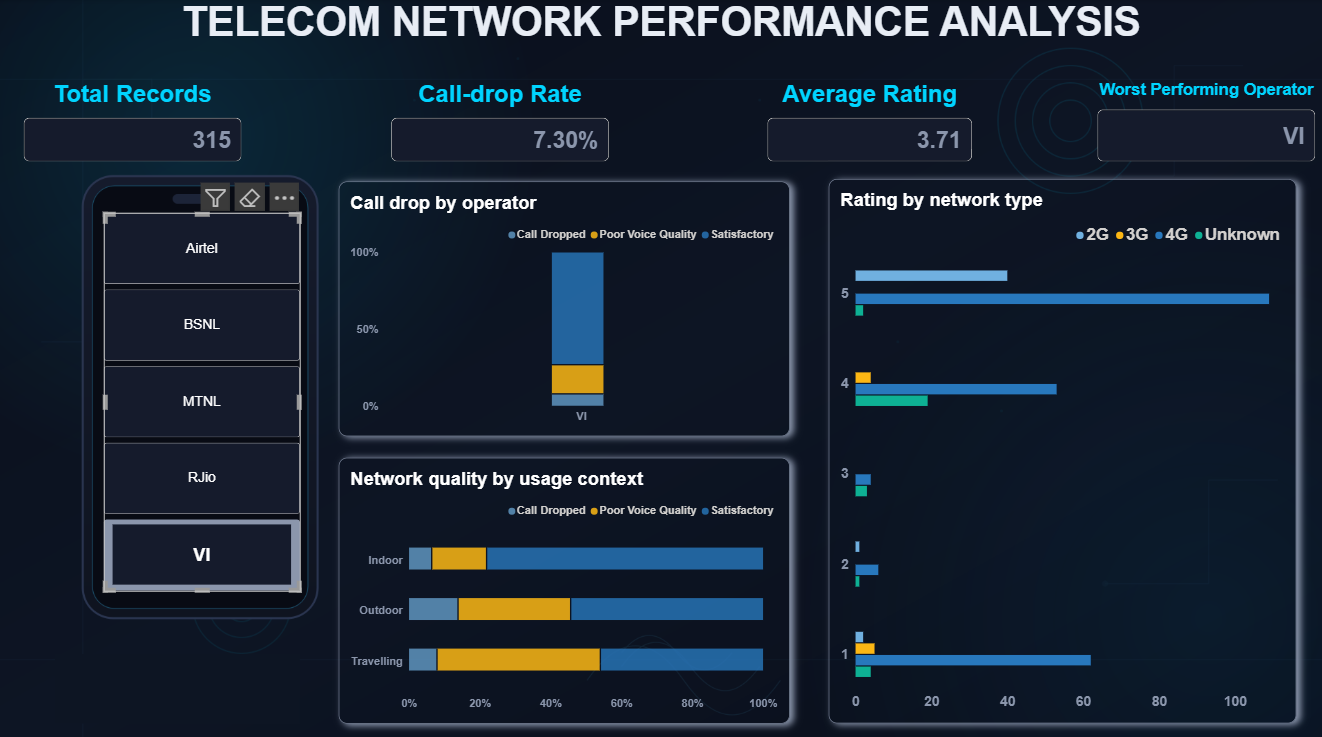

Layout of this report page (visuals, bound fields, positions):
{"tool":"powerbi","page":{"name":"Page 1","canvas":[1920,1080],"ordinal":0},"visuals":[{"type":"textbox","box":[10.3,0,1893.7,98.8],"z":0},{"type":"cardVisual","title":"Total Records","fields":{"Data":["Telecom Network.Total Records"]},"box":[35,117.3,315,118],"z":1000},{"type":"cardVisual","title":"Call-drop Rate","fields":{"Data":["Telecom Network.Call Drop Rate"]},"box":[566,117.3,315,118],"z":2000},{"type":"cardVisual","title":"Average Rating","fields":{"Data":["Telecom Network.Average Rating"]},"box":[1111.5,117.3,296,118],"z":3000},{"type":"cardVisual","title":"Worst Performing Operator","fields":{"Data":["Telecom Network.Worst Operator Name"]},"box":[1589,117.3,315,118],"z":4000},{"type":"hundredPercentStackedColumnChart","title":"Call drop by operator","fields":{"Category":["Telecom Network.operator"],"Y":["Telecom Network.Total Records"],"Series":["Telecom Network.calldrop_category"]},"box":[489.9,263.5,652.5,368.4],"z":5000},{"type":"clusteredBarChart","title":"Rating by network type","fields":{"Category":["Telecom Network.rating"],"Y":["Telecom Network.Total Records"],"Series":["Telecom Network.network_type"]},"box":[1200,261.4,677.2,788.3],"z":5002},{"type":"hundredPercentStackedBarChart","title":"Network quality by usage context","fields":{"Category":["Telecom Network.inout_travelling"],"Y":["Telecom Network.Total Records"],"Series":["Telecom Network.calldrop_category"]},"box":[489.9,664.8,652.5,384.9],"z":5003},{"type":"advancedSlicerVisual","fields":{"Values":["Telecom Network.operator"]},"box":[150.3,308.7,284,549.6],"z":5004},{"type":"textbox","box":[80.3,948.9,354,100.9],"z":5005}]}

Visuals, with their boxes in screenshot pixels (x1, y1, x2, y2), scaled from the page's 1920x1080 canvas onto the 1322x737 screenshot:
textbox: [left=7, top=0, right=1311, bottom=67]
"Total Records" cardVisual: [left=24, top=80, right=241, bottom=161]
"Call-drop Rate" cardVisual: [left=390, top=80, right=607, bottom=161]
"Average Rating" cardVisual: [left=765, top=80, right=969, bottom=161]
"Worst Performing Operator" cardVisual: [left=1094, top=80, right=1311, bottom=161]
"Call drop by operator" hundredPercentStackedColumnChart: [left=337, top=180, right=787, bottom=431]
"Rating by network type" clusteredBarChart: [left=826, top=178, right=1293, bottom=716]
"Network quality by usage context" hundredPercentStackedBarChart: [left=337, top=454, right=787, bottom=716]
advancedSlicerVisual - Telecom Network.operator: [left=103, top=211, right=299, bottom=586]
textbox: [left=55, top=648, right=299, bottom=716]
